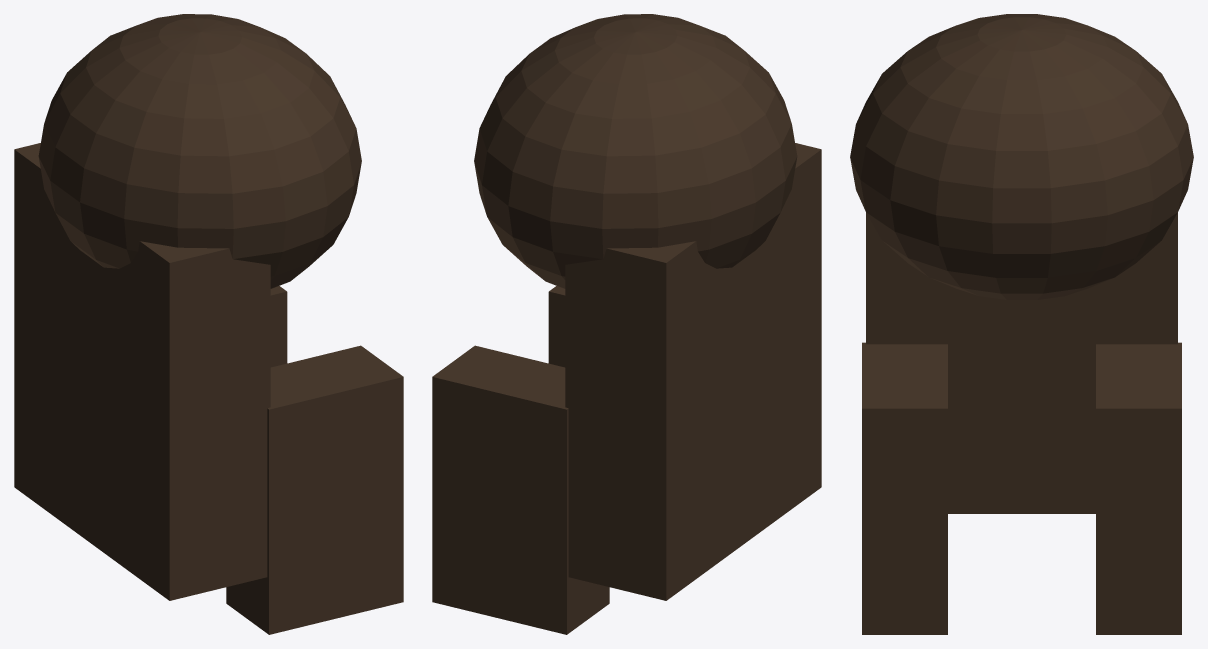
Rendered from SM_Hair_Long.fbx.
3 renders of one model, left to right at view 1: azimuth 30°, elevation 25°; view 2: azimuth 150°, elevation 25°; view 3: azimuth 270°, elevation 25°, orthographic.
Visible parts, largest first — view 1: SM_Hair_Long; view 2: SM_Hair_Long; view 3: SM_Hair_Long.
Boxes of the visible parts, bbox=[...] form: SM_Hair_Long: bbox=[14, 14, 403, 634]; SM_Hair_Long: bbox=[432, 14, 821, 634]; SM_Hair_Long: bbox=[850, 14, 1193, 634].
Bounding box in the file's own units: 20.09 × 22.03 × 38.48.
